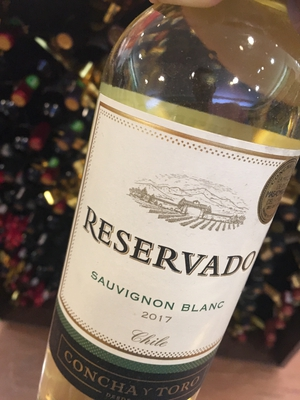reservado sauvignon blanc: (55, 28, 278, 400)
